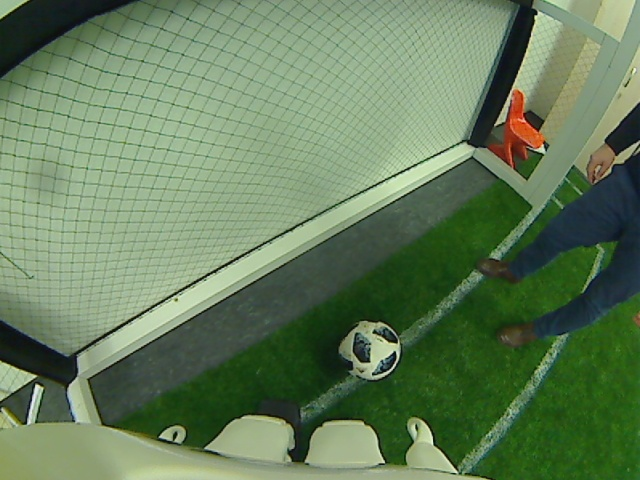ball: (342, 318, 401, 383)
